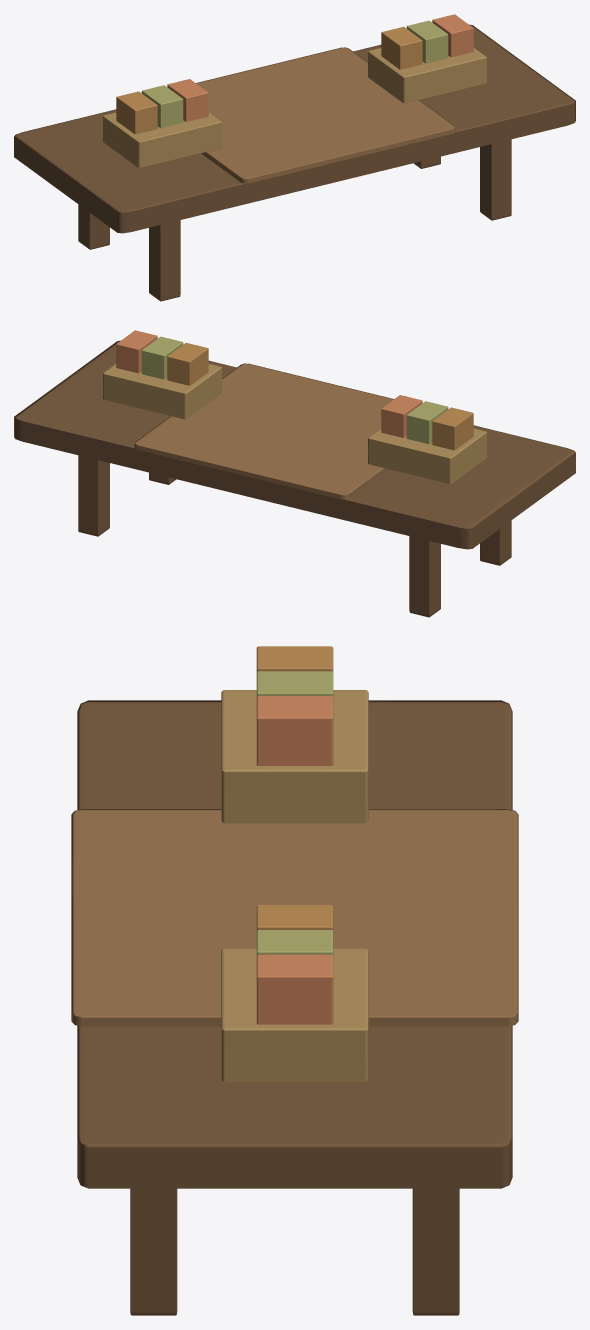
The model's file is harvesttable-0.glb.
3 views of the same model, one above another, from view 1: azimuth 30°, elevation 25°; view 2: azimuth 150°, elevation 25°; view 3: azimuth 270°, elevation 25° (orthographic). The views are drawn at different scales.
Parts seen in each view (by area): view 1: harvesttable-0-0; view 2: harvesttable-0-0; view 3: harvesttable-0-0.
Part boxes in pixels (<box>): harvesttable-0-0: <box>14,14,575,301</box>; harvesttable-0-0: <box>14,330,575,617</box>; harvesttable-0-0: <box>71,646,518,1315</box>.
Size of the model in its own units: 1.8 by 0.625 by 0.76.
